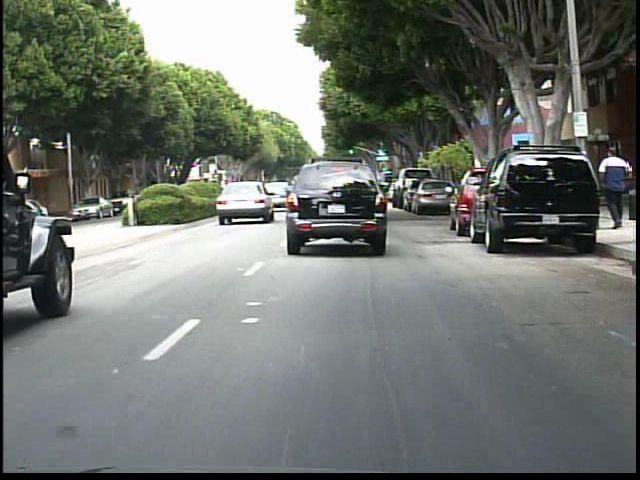person: (592, 141, 631, 234)
